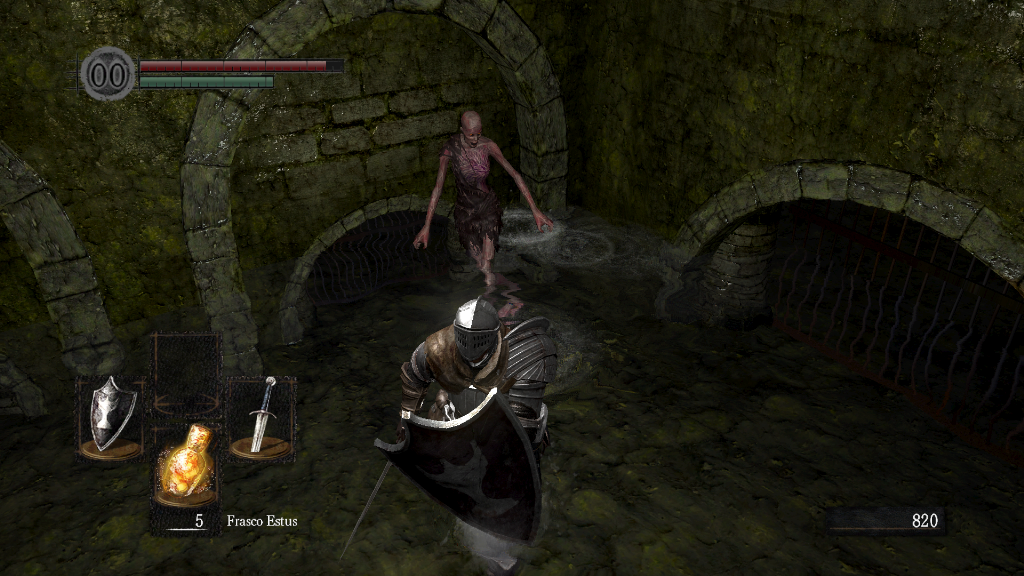health: (138, 58, 343, 71)
hollow: (411, 111, 557, 320)
humanity: (80, 45, 136, 102)
player: (341, 297, 561, 576)
souls: (825, 506, 945, 536)
stamina: (138, 74, 274, 88)
